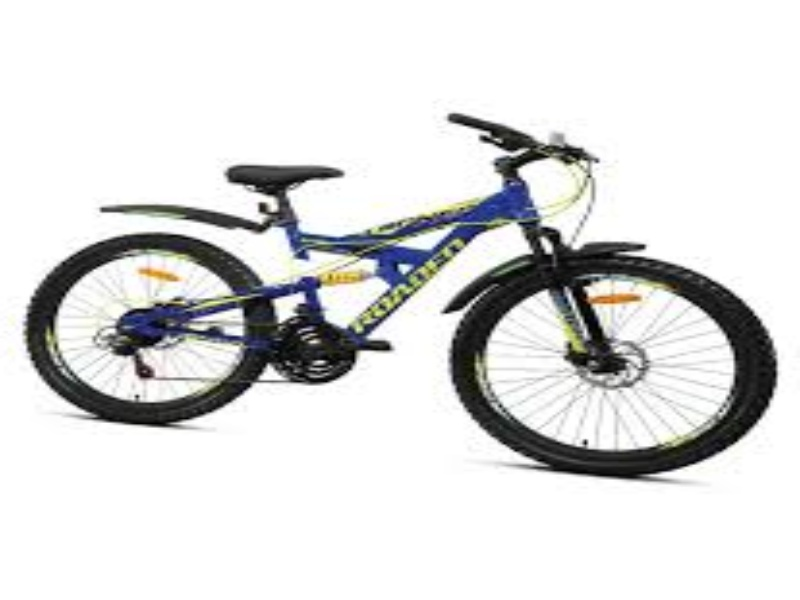bicycle: (14, 88, 788, 499)
